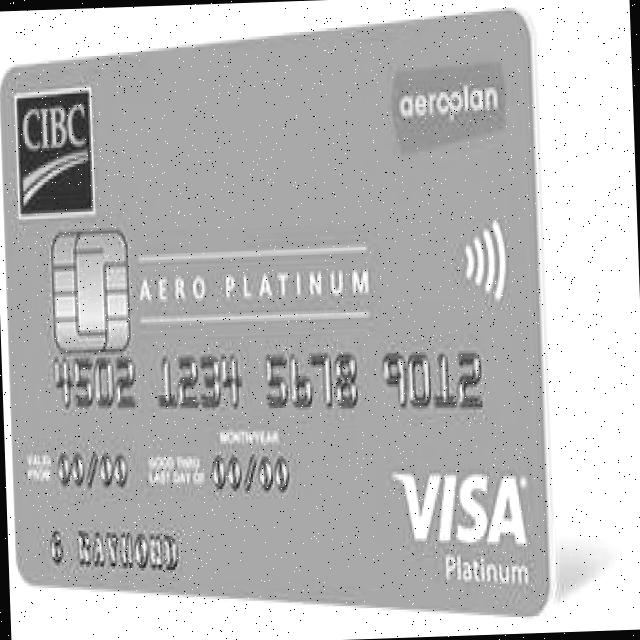card: (1, 4, 551, 628)
